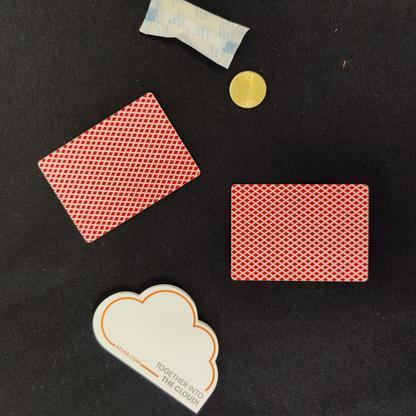card: (29, 82, 213, 256), (222, 174, 377, 292)
